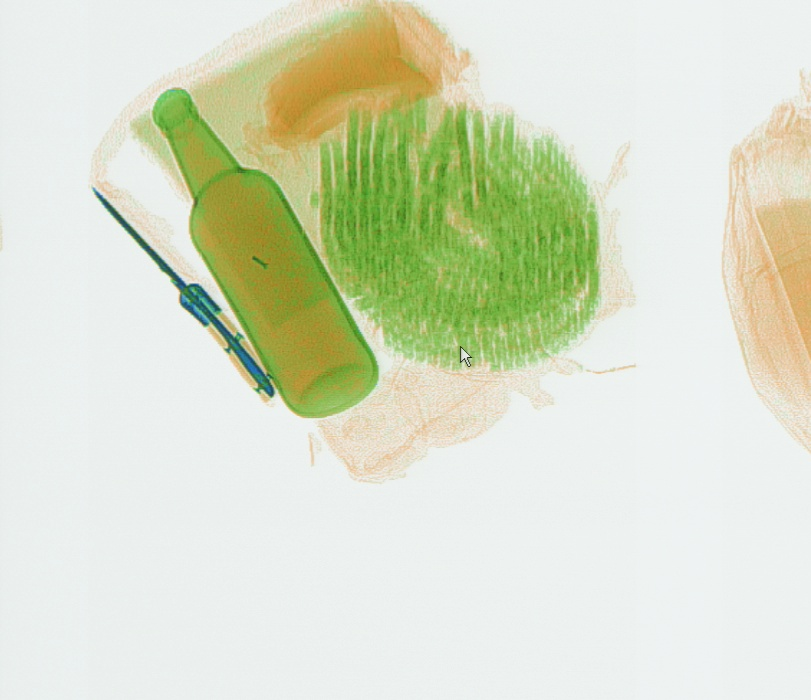firecrackers: (304, 78, 607, 378)
knife: (85, 182, 279, 403)
